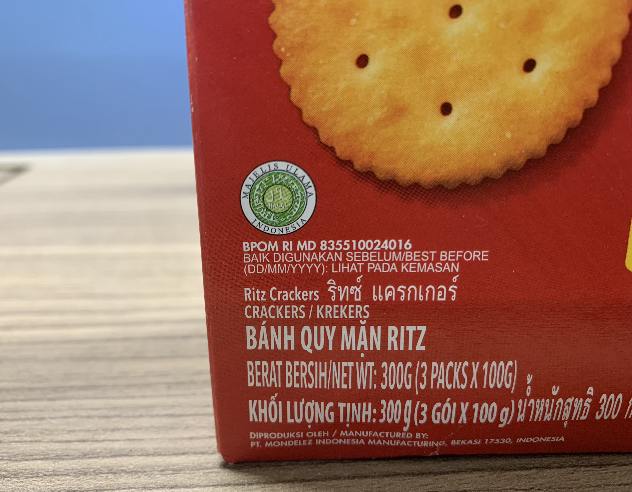halal: (252, 170, 309, 226)
